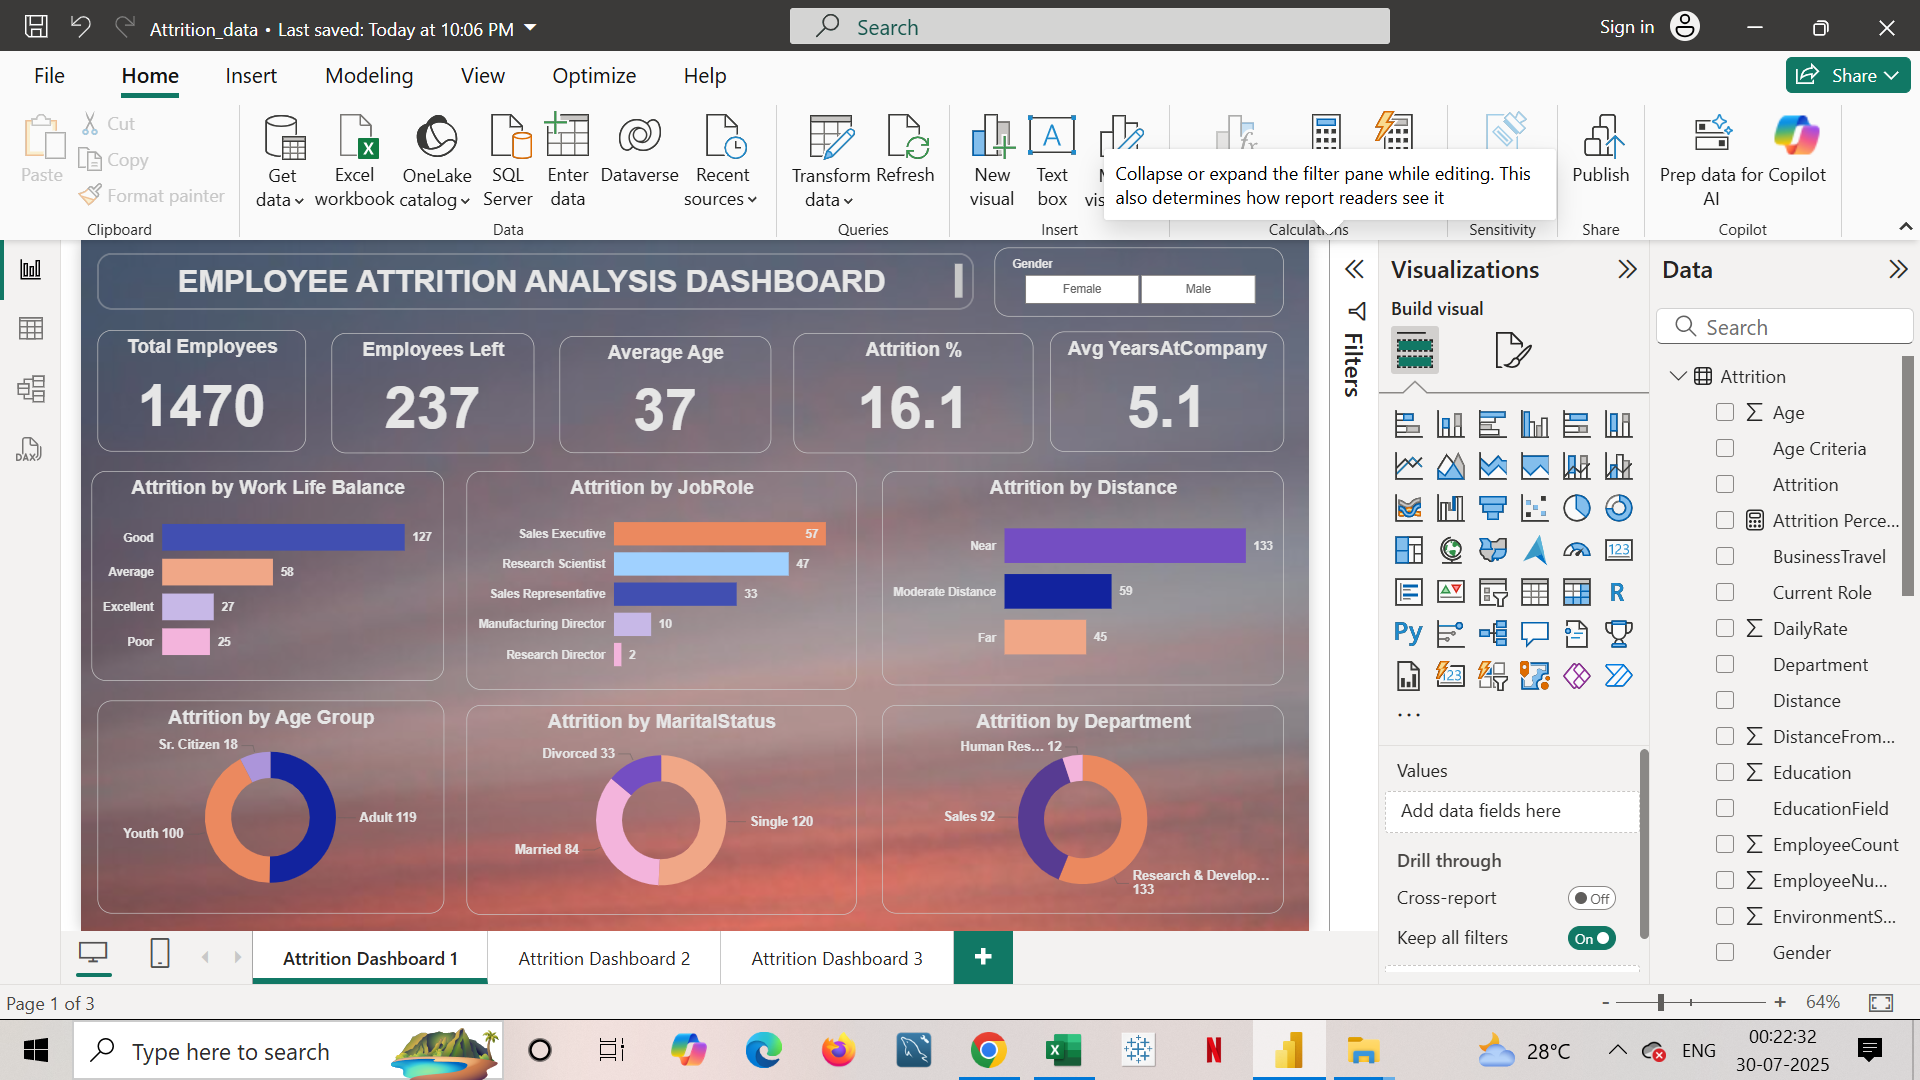

Layout of this report page (visuals, bound fields, positions):
{"tool":"powerbi","page":{"name":"Attrition Dashboard 1","canvas":[1280,720],"ordinal":0},"visuals":[{"type":"barChart","title":"Attrition by Work Life Balance","fields":{"Category":["Attrition.WLB"],"Y":["CountNonNull(Attrition.WLB)"]},"box":[10.9,240.7,367.3,218.8],"z":0},{"type":"donutChart","title":"Attrition by Department","fields":{"Category":["Attrition.Department"],"Y":["CountNonNull(Attrition.Attrition)"]},"box":[834.6,484.5,418.9,217.3],"z":1000},{"type":"clusteredBarChart","title":"Attrition by JobRole","fields":{"Category":["Attrition.JobRole"],"Y":["CountNonNull(Attrition.Attrition)"]},"box":[401.7,240.7,406.4,228.2],"z":2000},{"type":"donutChart","title":"Attrition by MaritalStatus","fields":{"Y":["CountNonNull(Attrition.Attrition)"],"Category":["Attrition.MaritalStatus"]},"box":[401.7,484.5,406.4,218.8],"z":3000},{"type":"card","title":"Total Employees","fields":{"Values":["CountNonNull(Attrition.EmployeeNumber)"]},"box":[17.2,93.8,217.3,126.6],"z":4000},{"type":"card","title":"Employees Left","fields":{"Values":["CountNonNull(Attrition.Attrition)"]},"box":[261,96.9,211,125],"z":5000},{"type":"card","title":"Average Age","fields":{"Values":["Avg(Attrition.Age)"]},"box":[498.6,100,220.4,121.9],"z":6000},{"type":"textbox","box":[17.2,14.1,912.8,57.8],"z":7000},{"type":"barChart","title":"Attrition by Distance","fields":{"Category":["Attrition.Distance"],"Y":["CountNonNull(Attrition.EmployeeNumber)"]},"box":[834.6,240.7,418.9,223.5],"z":8000},{"type":"card","title":"Attrition %","fields":{"Values":["Attrition.Attrition Percentage"]},"box":[742.4,96.9,250.1,125],"z":9000},{"type":"card","title":"Avg YearsAtCompany","fields":{"Values":["Avg(Attrition.YearsAtCompany)"]},"box":[1009.7,95.3,243.8,125],"z":10000},{"type":"slicer","fields":{"Values":["Attrition.Gender"]},"box":[951.9,7.8,301.7,71.9],"z":11000},{"type":"donutChart","title":" Attrition by Age Group","fields":{"Category":["Attrition.Age Criteria"],"Y":["CountNonNull(Attrition.Attrition)"]},"box":[17.2,479.8,361.1,221.9],"z":12000}]}

Visuals, with their boxes on the page's 1280x720 design canvas (x1, y1, x2, y2). These are canvas units, not pixel positions in the 1920x1080 screenshot, which may show the page scaled, cropped or inside an application window:
"Attrition by Work Life Balance" barChart: 11,241,378,460
"Attrition by Department" donutChart: 835,484,1254,702
"Attrition by JobRole" clusteredBarChart: 402,241,808,469
"Attrition by MaritalStatus" donutChart: 402,484,808,703
"Total Employees" card: 17,94,234,220
"Employees Left" card: 261,97,472,222
"Average Age" card: 499,100,719,222
textbox: 17,14,930,72
"Attrition by Distance" barChart: 835,241,1254,464
"Attrition %" card: 742,97,992,222
"Avg YearsAtCompany" card: 1010,95,1254,220
slicer - Attrition.Gender: 952,8,1254,80
" Attrition by Age Group" donutChart: 17,480,378,702
